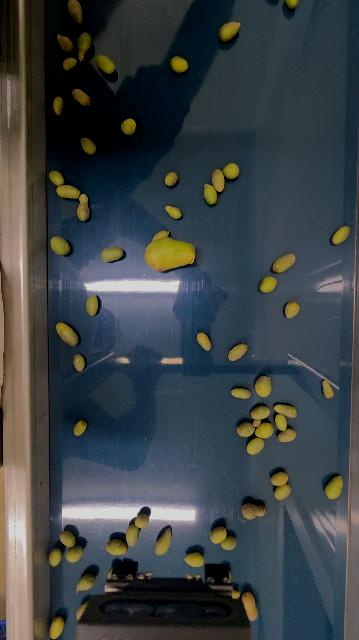Baby Potato: (142, 235, 199, 274), (55, 321, 80, 347), (242, 590, 260, 622), (75, 31, 93, 62), (273, 251, 297, 274), (218, 20, 242, 43), (241, 501, 268, 520), (326, 473, 344, 501), (155, 527, 172, 556), (95, 54, 116, 76), (51, 234, 71, 257), (255, 374, 274, 398), (237, 419, 261, 438), (67, 0, 85, 25), (228, 341, 249, 362), (210, 166, 226, 193), (274, 402, 299, 419), (101, 246, 125, 263), (77, 193, 91, 222), (49, 615, 65, 640), (56, 184, 81, 200), (76, 572, 95, 593), (56, 33, 75, 54), (71, 88, 92, 107), (332, 225, 351, 246), (169, 55, 190, 73), (106, 538, 128, 555), (202, 183, 218, 206), (255, 421, 275, 439), (184, 550, 205, 567), (85, 294, 100, 317), (66, 544, 84, 563), (223, 161, 241, 180), (260, 275, 279, 293), (210, 525, 228, 544), (247, 437, 266, 455), (277, 427, 298, 443), (274, 483, 292, 501), (197, 330, 213, 350), (251, 404, 271, 420), (126, 525, 140, 547), (231, 386, 253, 400), (59, 530, 76, 548), (271, 470, 290, 486), (284, 300, 300, 319), (80, 136, 96, 155), (48, 547, 62, 568), (322, 378, 336, 399), (274, 412, 290, 430), (165, 204, 183, 220), (52, 95, 65, 116), (72, 419, 87, 437), (121, 118, 136, 136), (72, 353, 86, 372), (75, 601, 89, 620), (49, 169, 64, 186), (221, 535, 237, 550), (135, 512, 150, 528), (62, 56, 77, 71), (164, 171, 179, 186), (153, 229, 170, 239), (284, 0, 300, 9)
